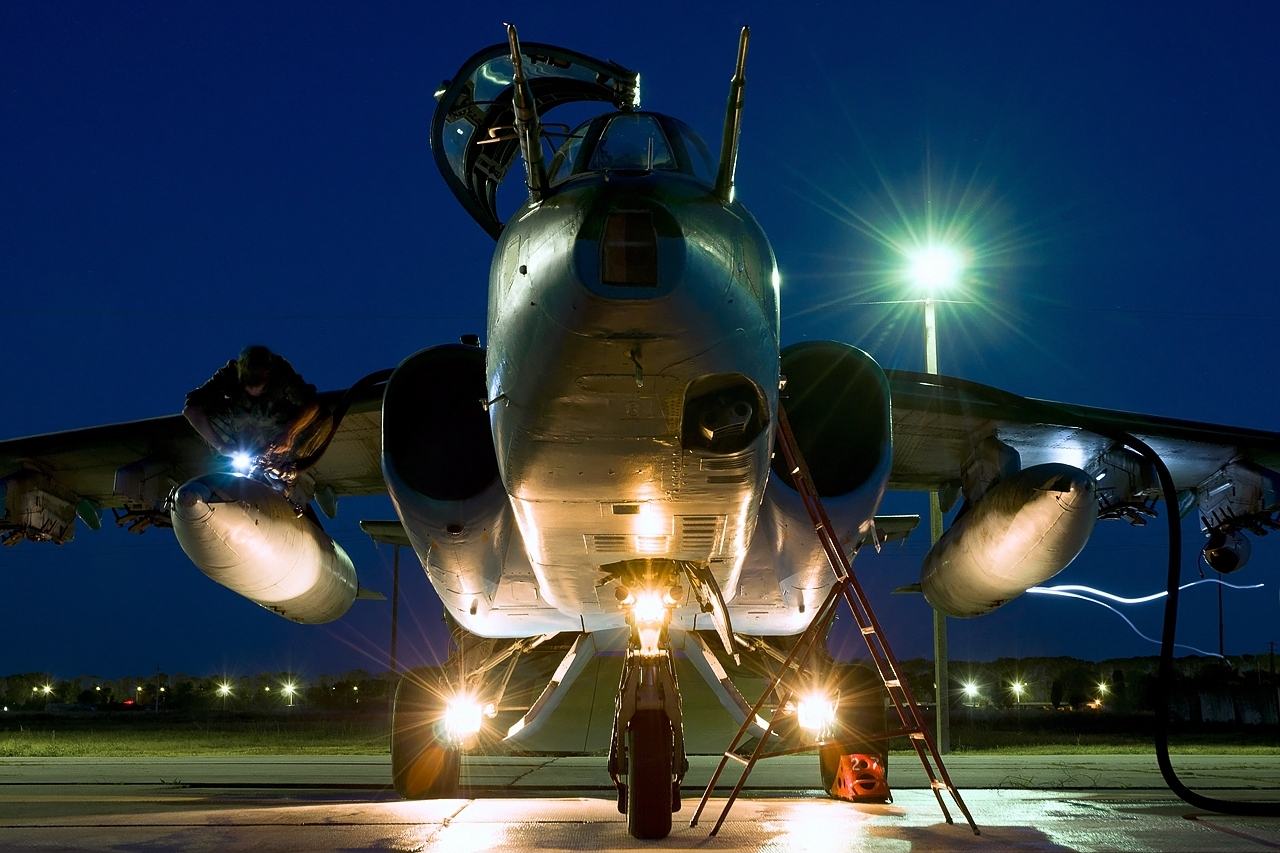airplane: (1, 22, 1280, 840)
